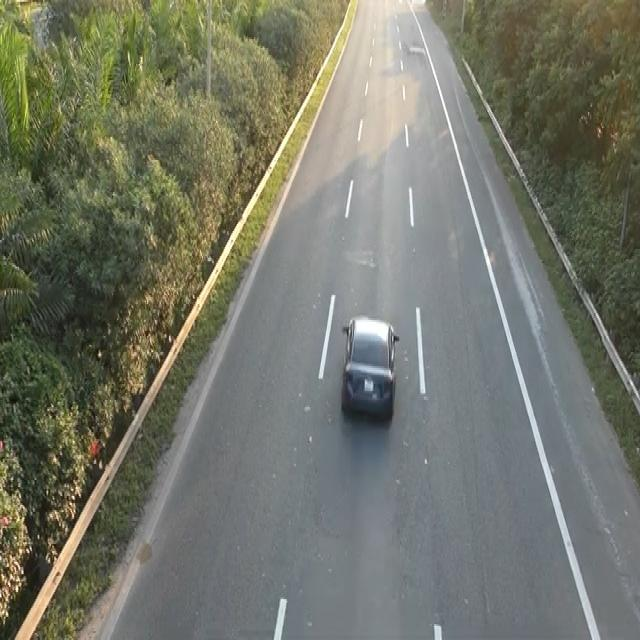bus: (338, 309, 400, 422)
